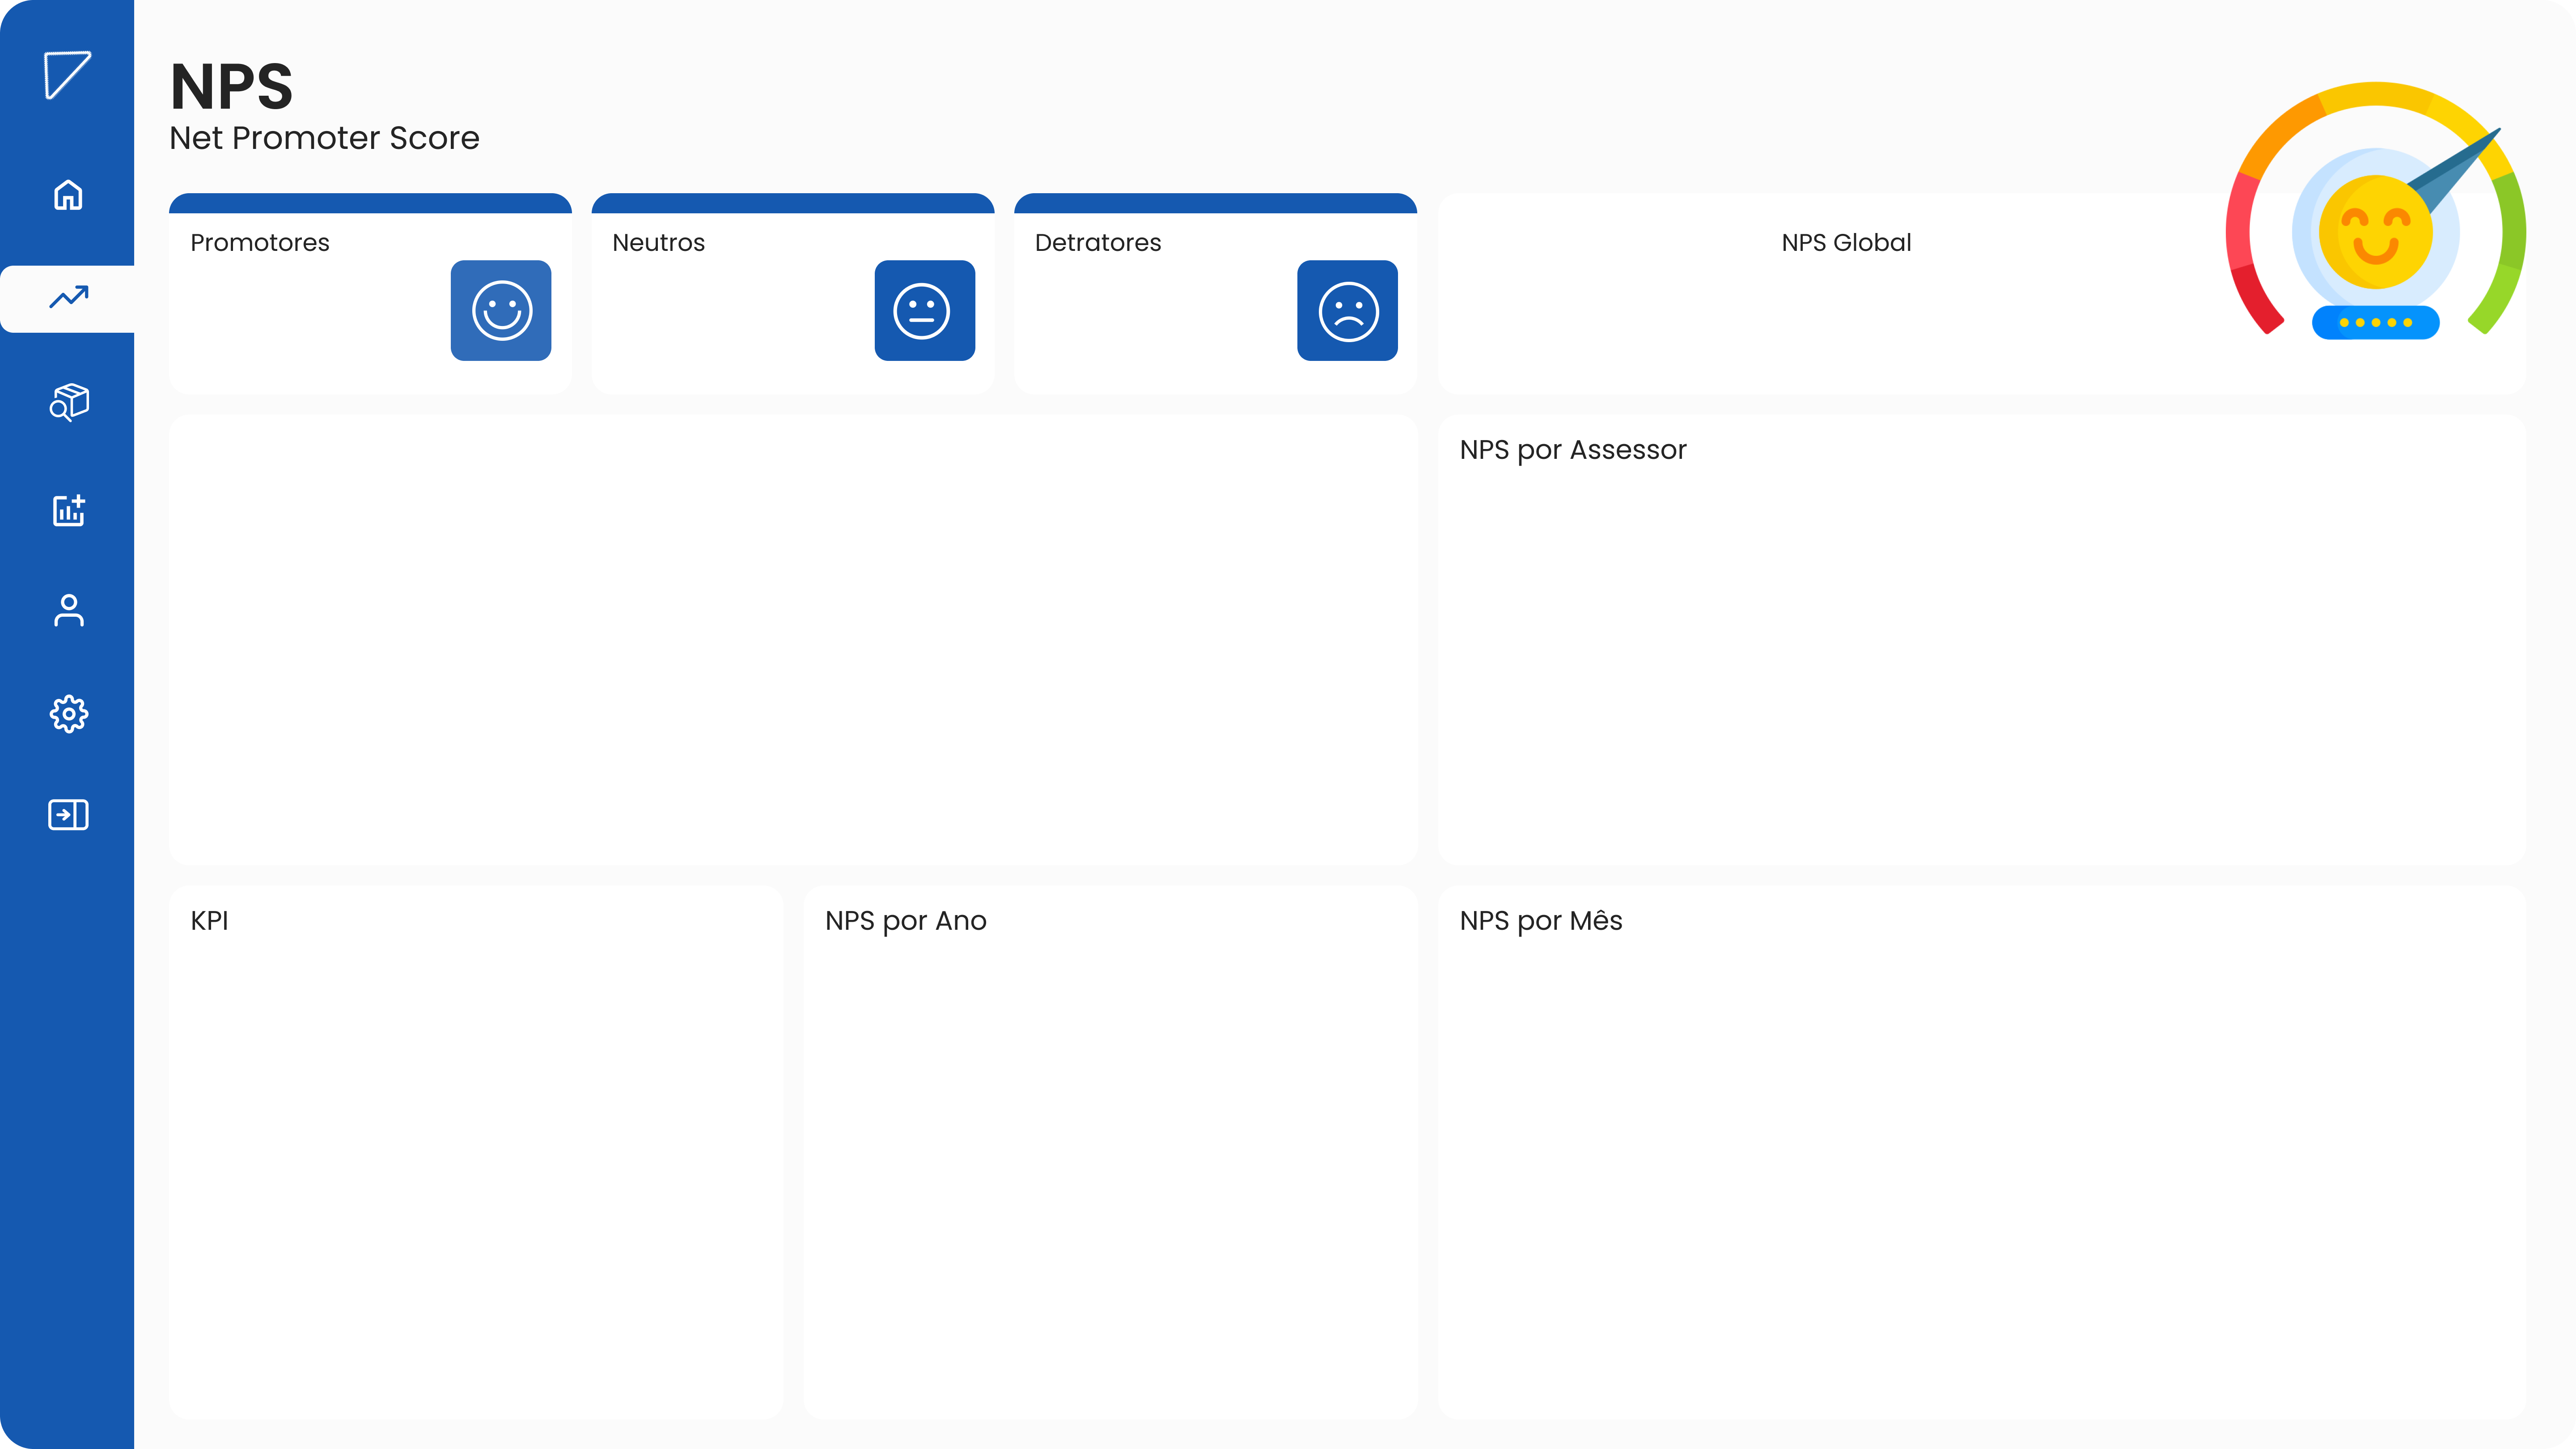

The dashboard page shown, as its layout file describes it:
{"tool":"powerbi","page":{"name":"NPS","canvas":[1280,720],"ordinal":0},"visuals":[{"type":"cardVisual","fields":{"Data":["NPS.NPS Global"]},"box":[834,116,158,78],"z":0},{"type":"cardVisual","fields":{"Data":["NPS.Promotores"]},"box":[124,116,82,70],"z":1000},{"type":"cardVisual","fields":{"Data":["NPS.Neutros"]},"box":[327,116,88,70],"z":2000},{"type":"cardVisual","fields":{"Data":["NPS.Detratores"]},"box":[537,116,93,70],"z":3000},{"type":"clusteredColumnChart","fields":{"Y":["NPS.Detratores","NPS.Promotores","NPS.Neutros"]},"box":[109,223,509,189],"z":4000},{"type":"columnChart","fields":{"Category":["Clientes.Assessor"],"Y":["NPS.NPS Global"]},"box":[745,234,461,193],"z":5000},{"type":"lineChart","fields":{"Category":["NPS.Data.Variation.Hierarquia de datas.Ano","NPS.Data.Variation.Hierarquia de datas.Trimestre","NPS.Data.Variation.Hierarquia de datas.Mês","NPS.Data.Variation.Hierarquia de datas.Dia"],"Y":["NPS.NPS Global"]},"box":[745,489,493,205],"z":6000},{"type":"donutChart","fields":{"Category":["NPS.Data.Variation.Hierarquia de datas.Ano","NPS.Data.Variation.Hierarquia de datas.Trimestre","NPS.Data.Variation.Hierarquia de datas.Mês","NPS.Data.Variation.Hierarquia de datas.Dia"],"Y":["NPS.NPS Global"]},"box":[415,475,286,219],"z":7000},{"type":"card","fields":{"Values":["NPS.Classificacao_NPS"]},"box":[845,170,147,33],"z":7001}]}

Visuals, with their boxes on the page's 1280x720 design canvas (x1, y1, x2, y2). These are canvas units, not pixel positions in the 2576x1449 screenshot, which may show the page scaled, cropped or inside an application window:
cardVisual - NPS.NPS Global: {"x1": 834, "y1": 116, "x2": 992, "y2": 194}
cardVisual - NPS.Promotores: {"x1": 124, "y1": 116, "x2": 206, "y2": 186}
cardVisual - NPS.Neutros: {"x1": 327, "y1": 116, "x2": 415, "y2": 186}
cardVisual - NPS.Detratores: {"x1": 537, "y1": 116, "x2": 630, "y2": 186}
clusteredColumnChart - NPS.Detratores x NPS.Promotores: {"x1": 109, "y1": 223, "x2": 618, "y2": 412}
columnChart - Clientes.Assessor x NPS.NPS Global: {"x1": 745, "y1": 234, "x2": 1206, "y2": 427}
lineChart - NPS.Data.Variation.Hierarquia de datas.Ano x NPS.Data.Variation.Hierarquia de datas.Trimestre: {"x1": 745, "y1": 489, "x2": 1238, "y2": 694}
donutChart - NPS.Data.Variation.Hierarquia de datas.Ano x NPS.Data.Variation.Hierarquia de datas.Trimestre: {"x1": 415, "y1": 475, "x2": 701, "y2": 694}
card - NPS.Classificacao_NPS: {"x1": 845, "y1": 170, "x2": 992, "y2": 203}
